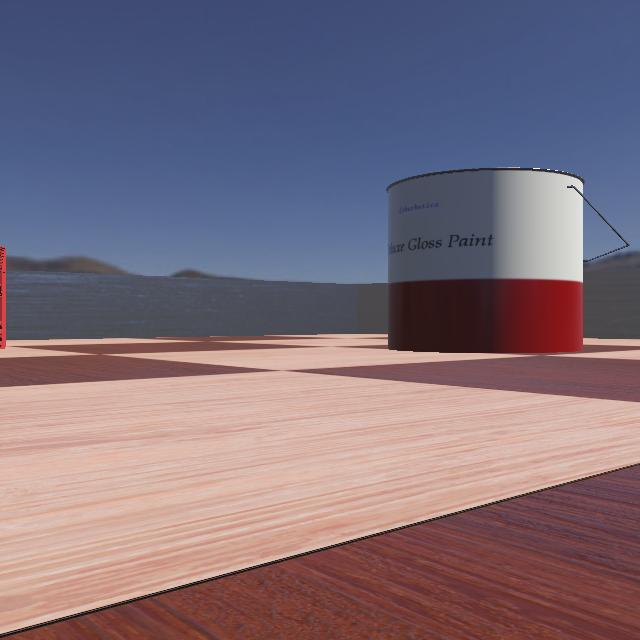paint-bucket: (374, 168, 640, 354)
